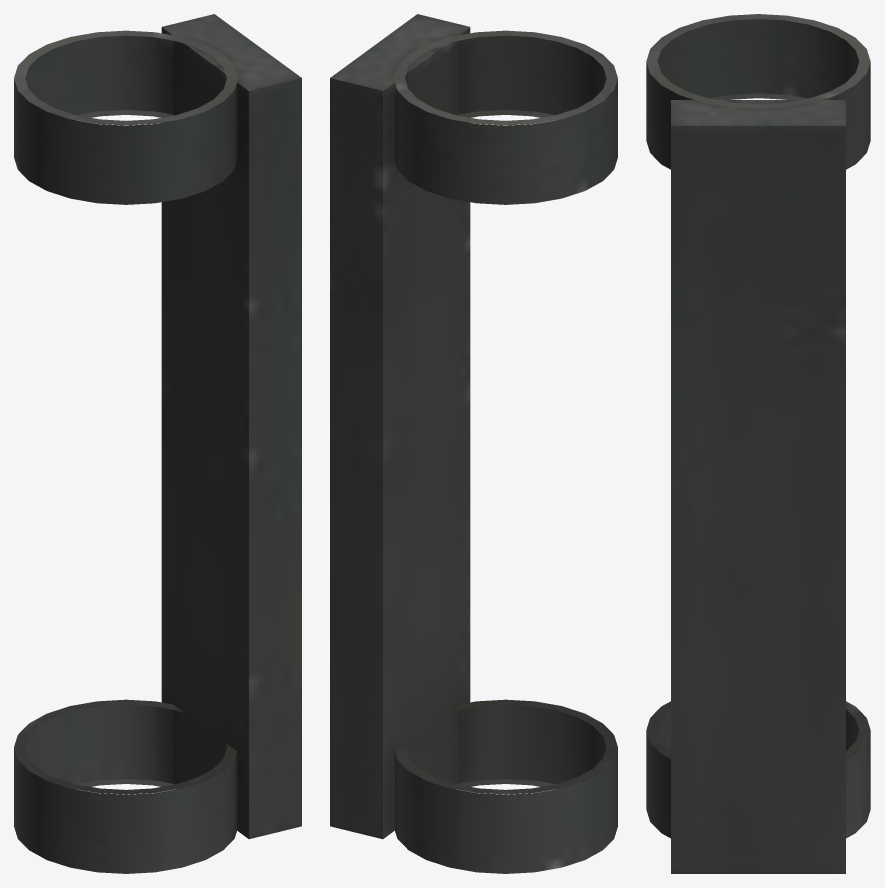
File: pedMountPipe-v1.glb
3 renders of one model, left to right at view 1: azimuth 30°, elevation 25°; view 2: azimuth 150°, elevation 25°; view 3: azimuth 270°, elevation 25°, orthographic.
Parts seen in each view (by area): view 1: pedMountPipe-v1; view 2: pedMountPipe-v1; view 3: pedMountPipe-v1.
Part boxes in pixels (<box>): pedMountPipe-v1: <box>14,14,301,873</box>; pedMountPipe-v1: <box>330,14,617,873</box>; pedMountPipe-v1: <box>646,14,870,873</box>.
Size of the model in its own units: 0.1513 by 0.4721 by 0.1283.
Materials: 1 (1 with a texture image).
